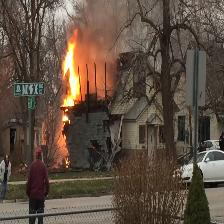fire: (63, 44, 82, 103), (63, 114, 69, 125)
smoke: (82, 2, 124, 48)
